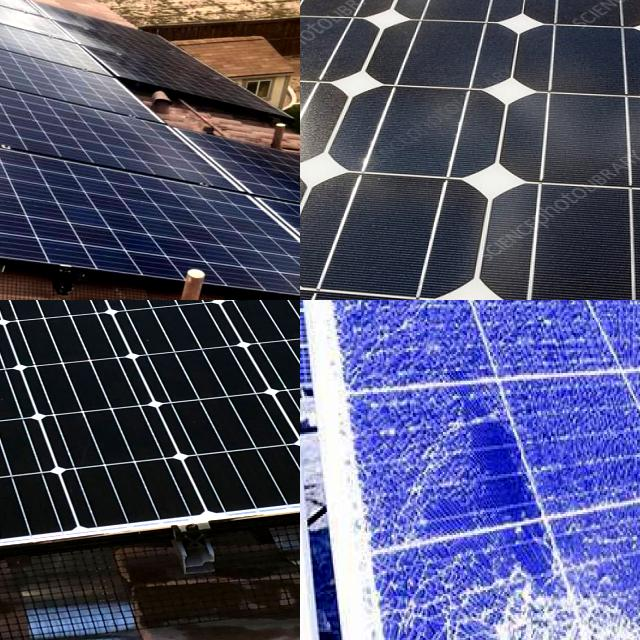crack: (300, 0, 640, 300), (0, 300, 300, 546), (0, 124, 300, 300), (0, 44, 260, 197), (0, 16, 217, 121), (0, 0, 146, 85)
hotspot: (390, 526, 436, 640)
